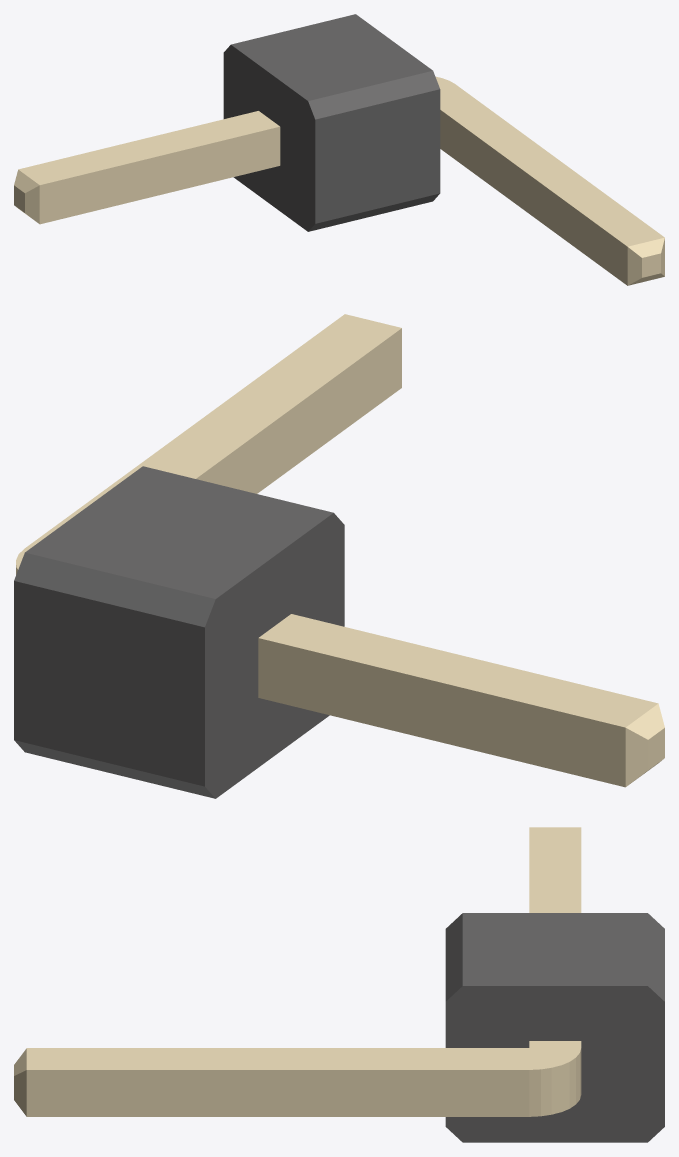
Rendered from PinHeader_1x01_P1.00mm_Horizontal.glb.
3 views of the same model, one above another, from view 1: azimuth 30°, elevation 25°; view 2: azimuth 150°, elevation 25°; view 3: azimuth 270°, elevation 25° (orthographic). The views are drawn at different scales.
Visible parts, largest first — view 1: Shape_IndexedFaceSet.002, Shape_IndexedFaceSet.015, Shape_IndexedFaceSet.001, Shape_IndexedFaceSet.004, Shape_IndexedFaceSet.010, Shape_IndexedFaceSet.021, Shape_IndexedFaceSet.014, Shape_IndexedFaceSet, Shape_IndexedFaceSet.006, Shape_IndexedFaceSet.028, Shape_IndexedFaceSet.024, Shape_IndexedFaceSet.020; view 2: Shape_IndexedFaceSet.007, Shape_IndexedFaceSet.017, Shape_IndexedFaceSet.001, Shape_IndexedFaceSet.004, Shape_IndexedFaceSet.010, Shape_IndexedFaceSet.014, Shape_IndexedFaceSet.021, Shape_IndexedFaceSet.005, Shape_IndexedFaceSet.009, Shape_IndexedFaceSet.026, Shape_IndexedFaceSet.023; view 3: Shape_IndexedFaceSet.003, Shape_IndexedFaceSet.019, Shape_IndexedFaceSet.001, Shape_IndexedFaceSet.010, Shape_IndexedFaceSet.014, Shape_IndexedFaceSet.018, Shape_IndexedFaceSet, Shape_IndexedFaceSet.005, Shape_IndexedFaceSet.027.
Part boxes in pixels (<box>): Shape_IndexedFaceSet.002: <box>315,89,440,223</box>; Shape_IndexedFaceSet.015: <box>39,126,280,224</box>; Shape_IndexedFaceSet.001: <box>231,14,432,100</box>; Shape_IndexedFaceSet.004: <box>223,45,315,231</box>; Shape_IndexedFaceSet.010: <box>435,76,664,246</box>; Shape_IndexedFaceSet.021: <box>440,110,627,285</box>; Shape_IndexedFaceSet.014: <box>18,111,279,184</box>; Shape_IndexedFaceSet: <box>308,70,439,119</box>; Shape_IndexedFaceSet.006: <box>308,193,439,231</box>; Shape_IndexedFaceSet.028: <box>627,247,641,285</box>; Shape_IndexedFaceSet.024: <box>25,185,39,223</box>; Shape_IndexedFaceSet.020: <box>628,237,664,257</box>; Shape_IndexedFaceSet.007: <box>14,581,204,786</box>; Shape_IndexedFaceSet.017: <box>258,638,625,787</box>; Shape_IndexedFaceSet.001: <box>25,466,333,598</box>; Shape_IndexedFaceSet.004: <box>205,513,344,798</box>; Shape_IndexedFaceSet.010: <box>16,314,401,569</box>; Shape_IndexedFaceSet.014: <box>259,614,658,727</box>; Shape_IndexedFaceSet.021: <box>196,328,401,493</box>; Shape_IndexedFaceSet.005: <box>14,552,215,627</box>; Shape_IndexedFaceSet.009: <box>14,740,215,798</box>; Shape_IndexedFaceSet.026: <box>625,728,648,786</box>; Shape_IndexedFaceSet.023: <box>626,703,664,739</box>; Shape_IndexedFaceSet.003: <box>445,986,664,1142</box>; Shape_IndexedFaceSet.019: <box>26,1070,529,1116</box>; Shape_IndexedFaceSet.001: <box>462,913,647,985</box>; Shape_IndexedFaceSet.010: <box>26,1041,581,1069</box>; Shape_IndexedFaceSet.014: <box>529,827,581,912</box>; Shape_IndexedFaceSet.018: <box>529,1048,581,1116</box>; Shape_IndexedFaceSet: <box>445,913,462,1001</box>; Shape_IndexedFaceSet.005: <box>648,913,664,1001</box>; Shape_IndexedFaceSet.027: <box>14,1070,26,1116</box>.
Size of the model in its own units: 1.34 by 0.394 by 1.48.
